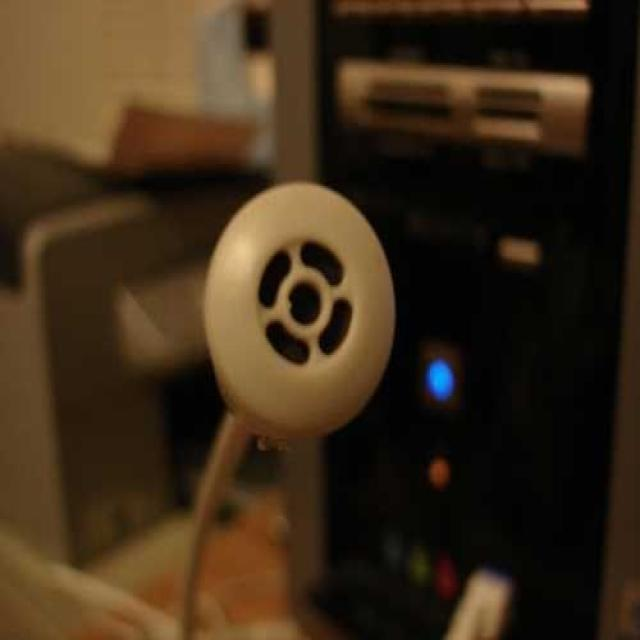microphone: (190, 180, 418, 451)
